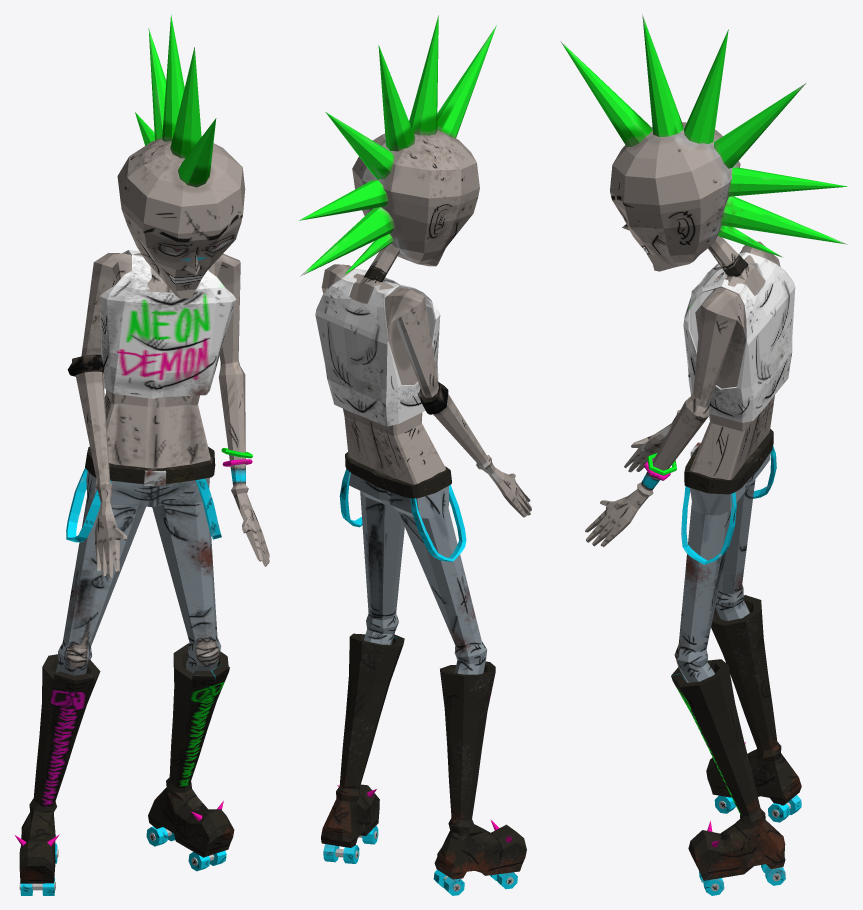
The model's file is punkAnimation_000004.obj.
The picture shows the model from 3 angles, left to right: view 1: azimuth 30°, elevation 25°; view 2: azimuth 150°, elevation 25°; view 3: azimuth 270°, elevation 25°; orthographic projection. The views are drawn at different scales.
Visible parts, largest first — view 1: Cube.004_Cube.003; view 2: Cube.004_Cube.003; view 3: Cube.004_Cube.003.
Part boxes in pixels (x1,y1,x2,y2): Cube.004_Cube.003: (15, 14, 269, 895); Cube.004_Cube.003: (298, 15, 531, 895); Cube.004_Cube.003: (560, 14, 847, 895).
Bounding box in the file's own units: 1.97 × 7.48 × 2.3.
